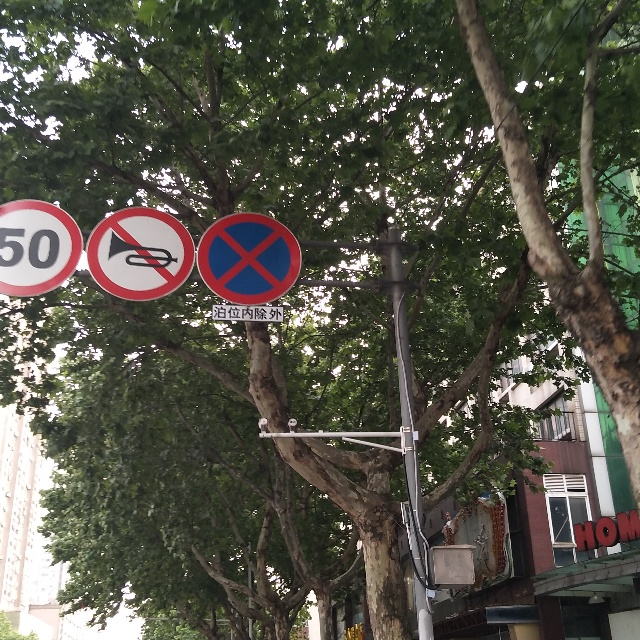nohonk: (101, 222, 183, 290)
stop: (210, 220, 293, 297)
